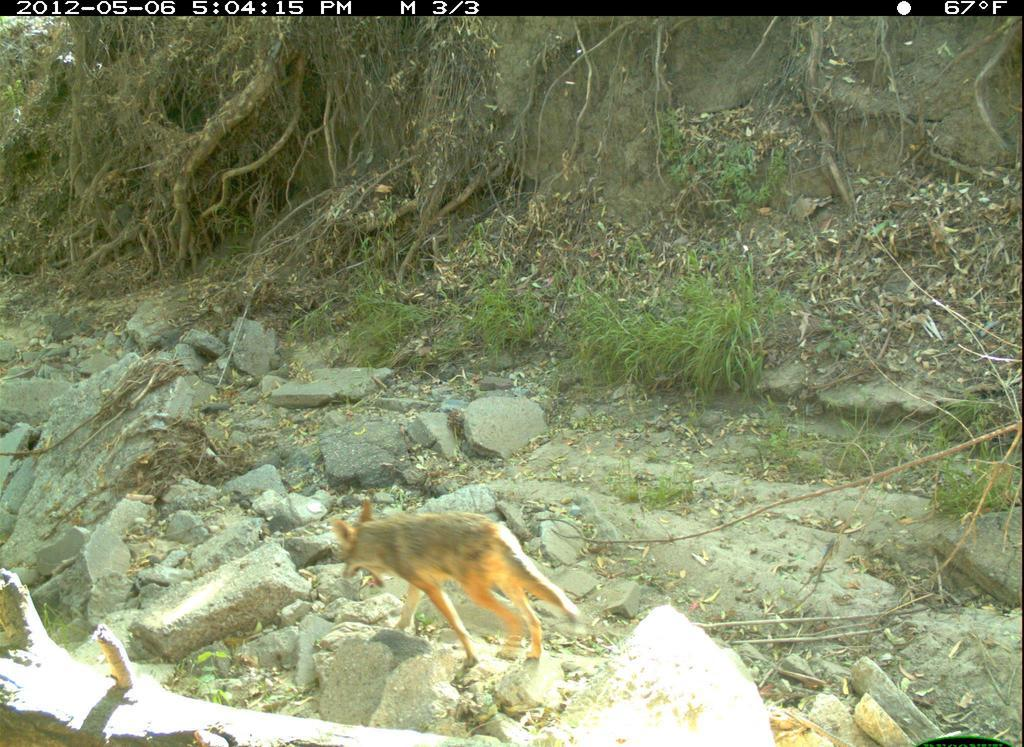coyote: (327, 492, 593, 674)
